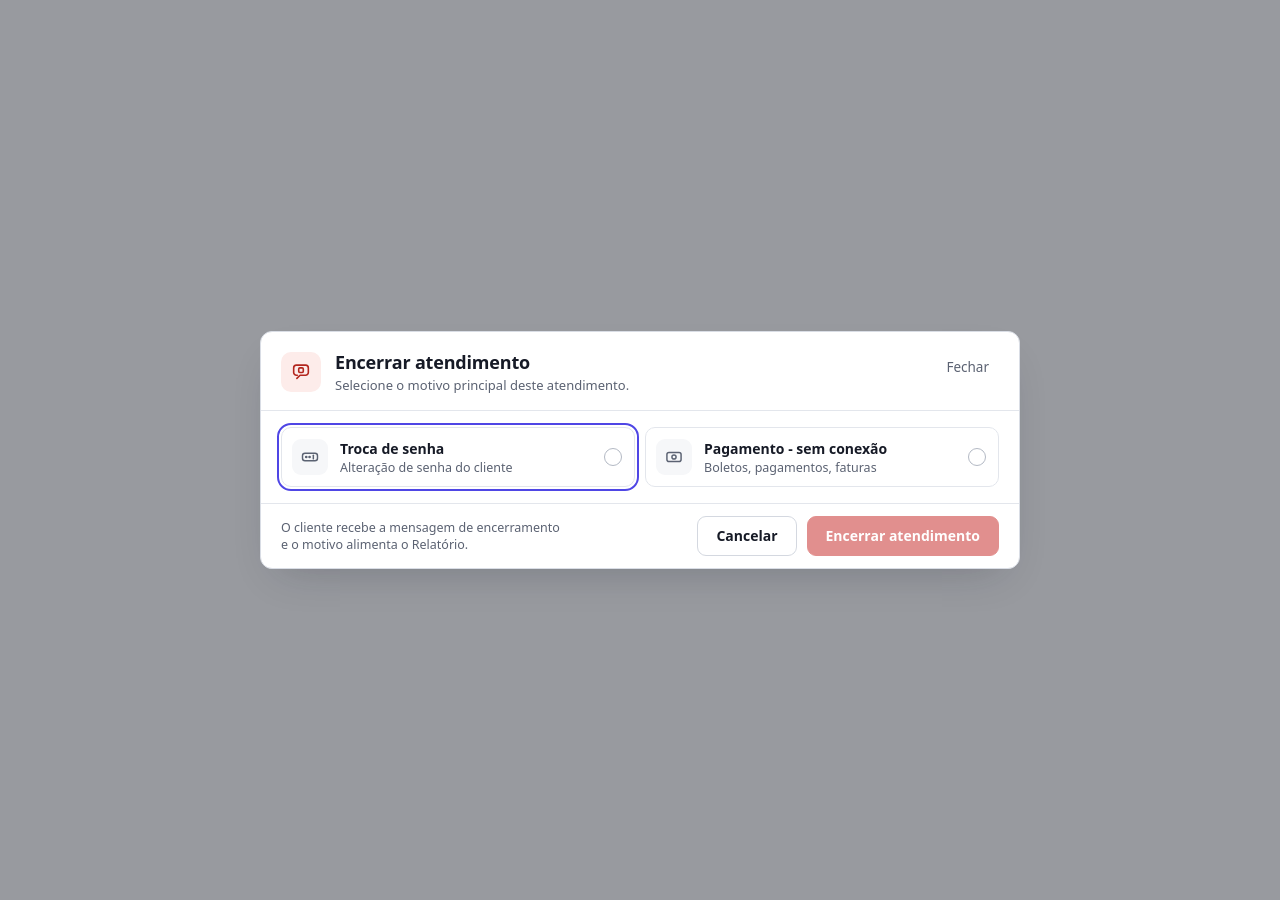
CloseReasonModal › Encerrar fica desabilitado até escolher um motivo
Expected: the button "Encerrar atendimento" is disabled, [806,516,999,556]
Click the radio button labelled "Troca de senha" at (613, 457), box [604,448,622,466]
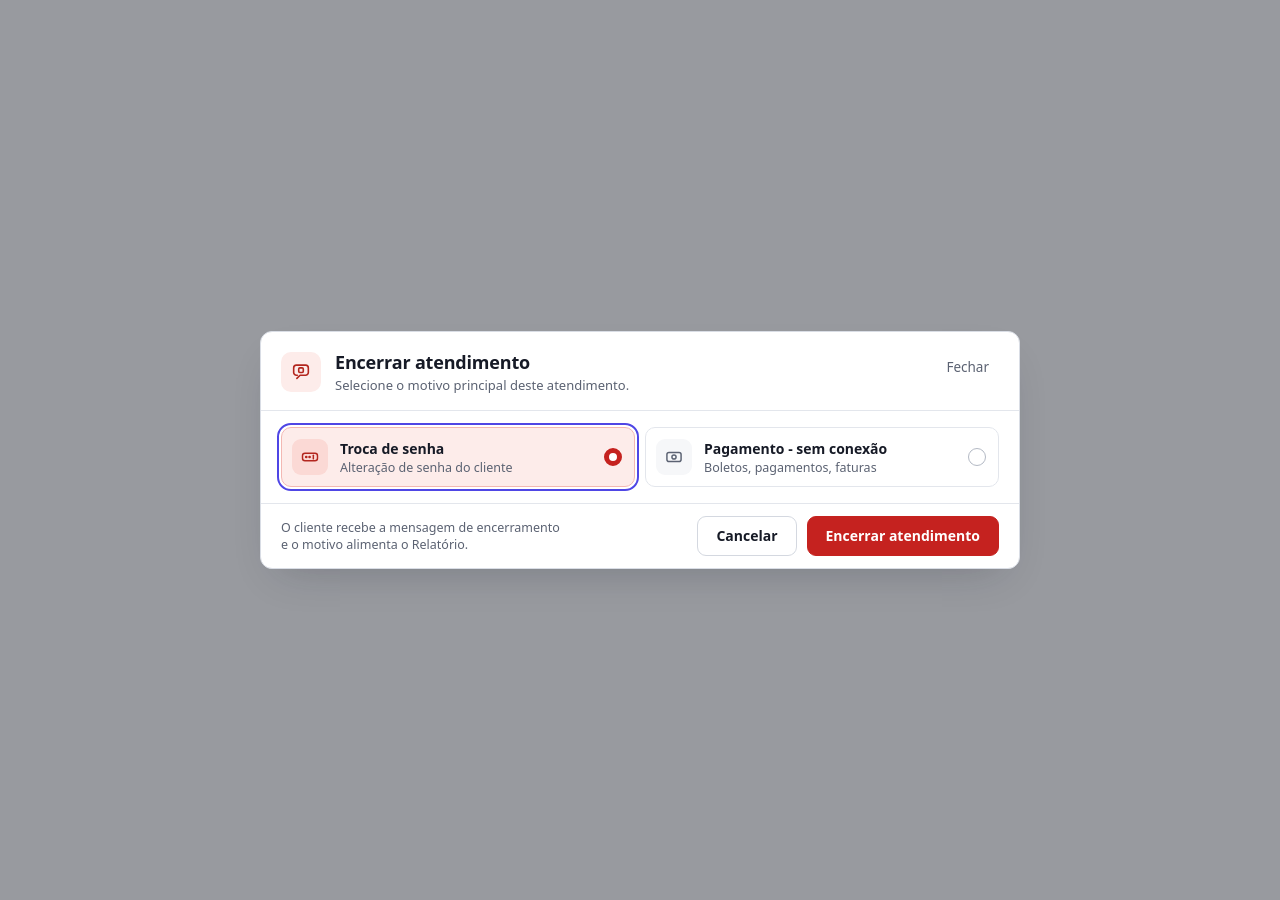
Result: the button "Encerrar atendimento" is enabled at [806,516,999,556]
